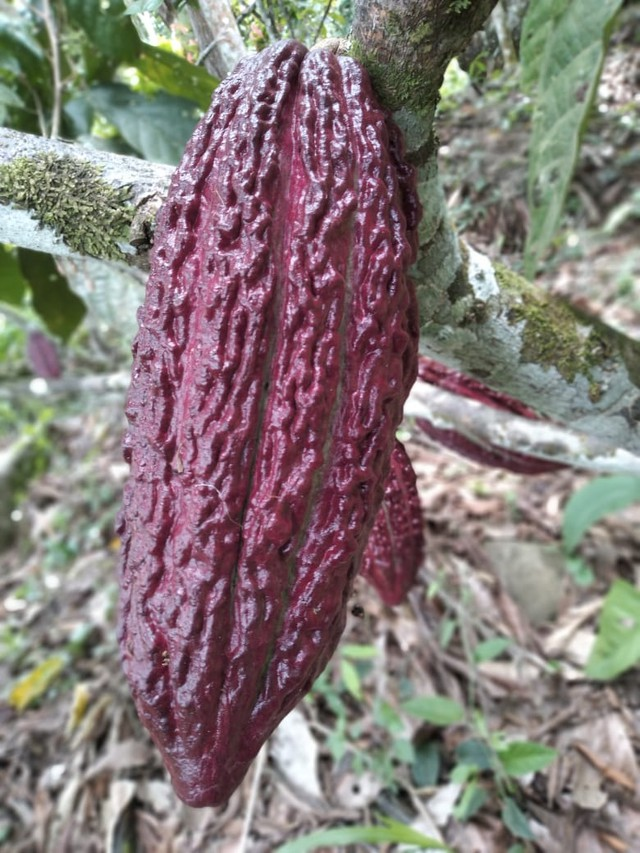Health: (106, 33, 427, 812)
